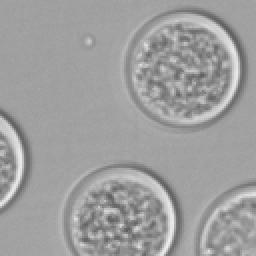picoshell: (124, 10, 242, 126), (62, 166, 176, 254), (200, 184, 254, 254), (0, 110, 28, 212)
